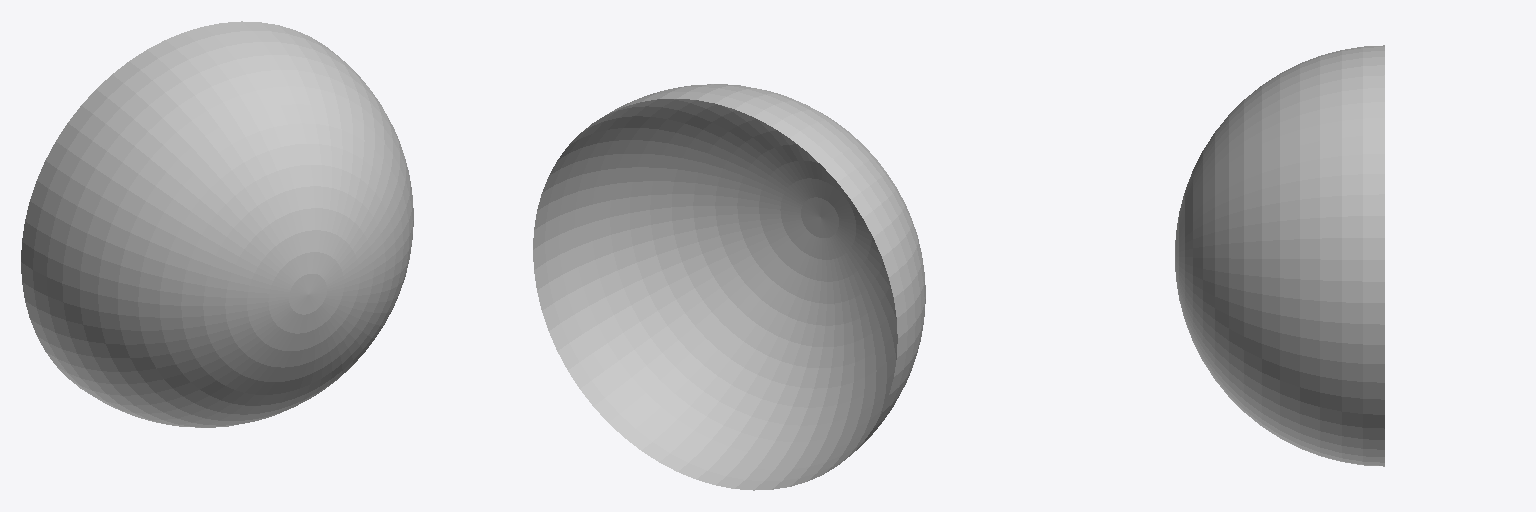
Rendered from test_context_01_sky.obj.
3 renders of one model, left to right at view 1: azimuth 30°, elevation 25°; view 2: azimuth 150°, elevation 25°; view 3: azimuth 270°, elevation 25°, orthographic.
Visible parts, largest first — view 1: Sky; view 2: Sky; view 3: Sky.
Boxes of the visible parts, <box> form: Sky: <box>21,21,413,427</box>; Sky: <box>533,84,925,490</box>; Sky: <box>1175,45,1384,466</box>.
Bounding box in the file's own units: 240 × 240 × 120.